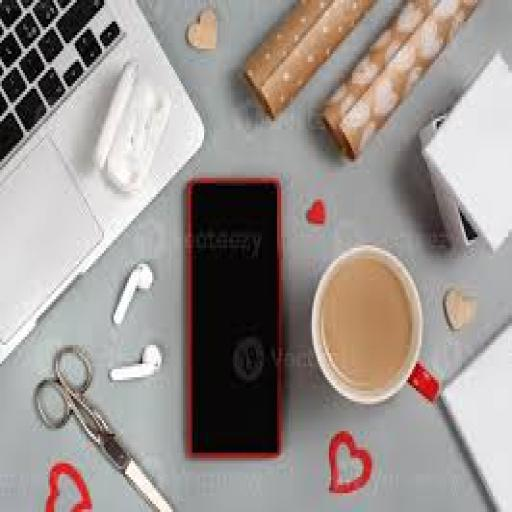phone: (187, 181, 282, 458)
red mug: (308, 244, 441, 406)
